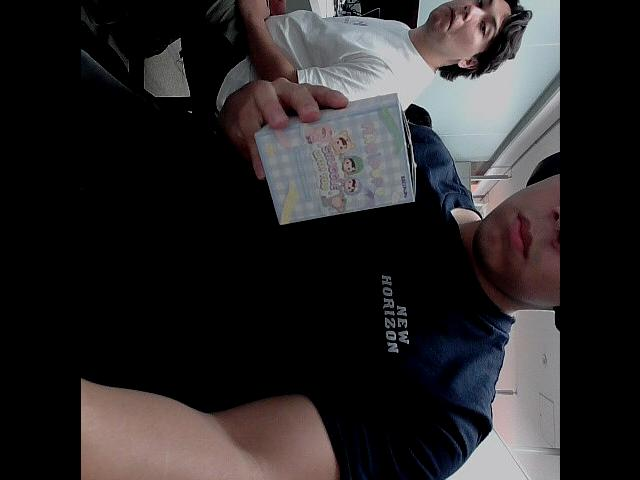Blind_box: (247, 84, 418, 240)
